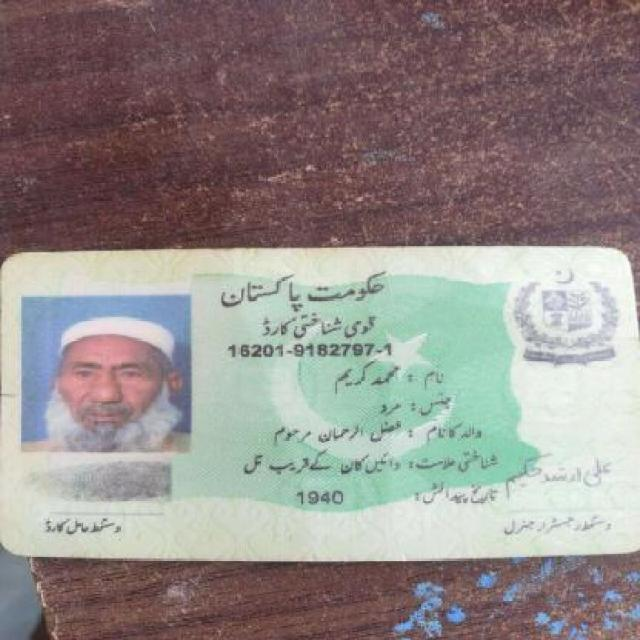Front: (8, 245, 628, 557)
